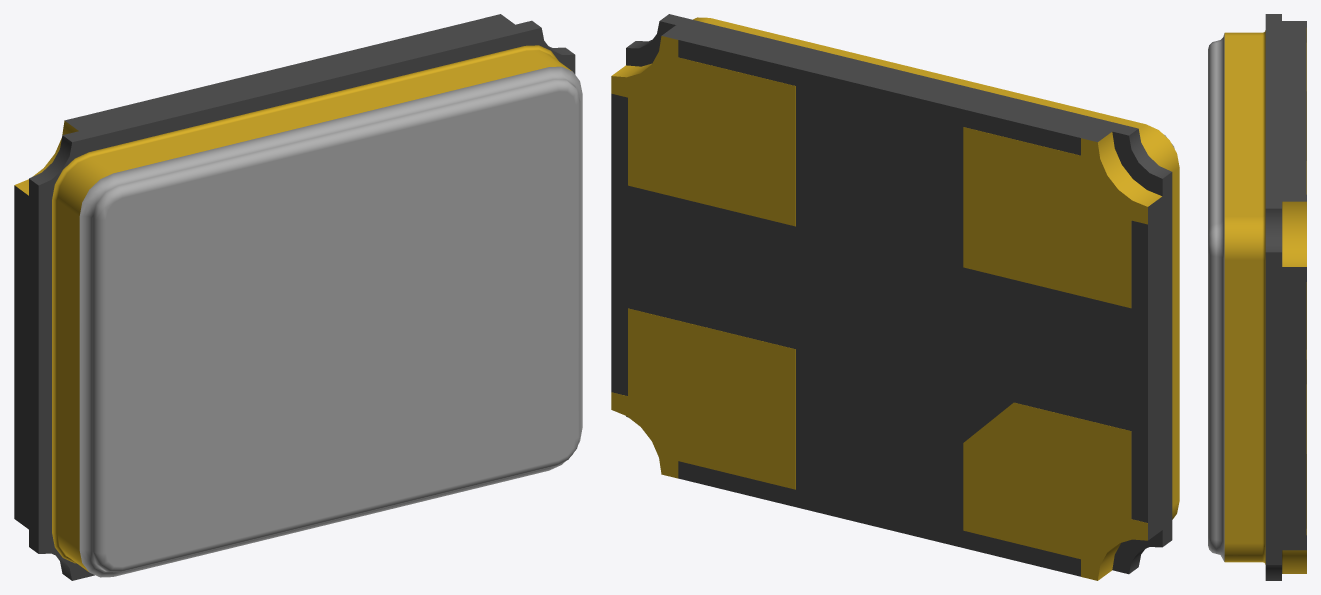
File: Yajingxin_TXM12_288M0004322FBCDO00T.3dmodel.glb
3 views of the same model, side by side, from view 1: azimuth 30°, elevation 25°; view 2: azimuth 150°, elevation 25°; view 3: azimuth 270°, elevation 25° (orthographic). The views are drawn at different scales.
Parts seen in each view (by area): view 1: =>[0:1:1:1]; view 2: =>[0:1:1:1]; view 3: =>[0:1:1:1].
Boxes of the visible parts, x1,y1,x2,y2 form: =>[0:1:1:1]: (14,14,582,580); =>[0:1:1:1]: (611,14,1179,580); =>[0:1:1:1]: (1208,14,1306,580).
Size of the model in its own units: 3.2 by 2.5 by 0.601.
